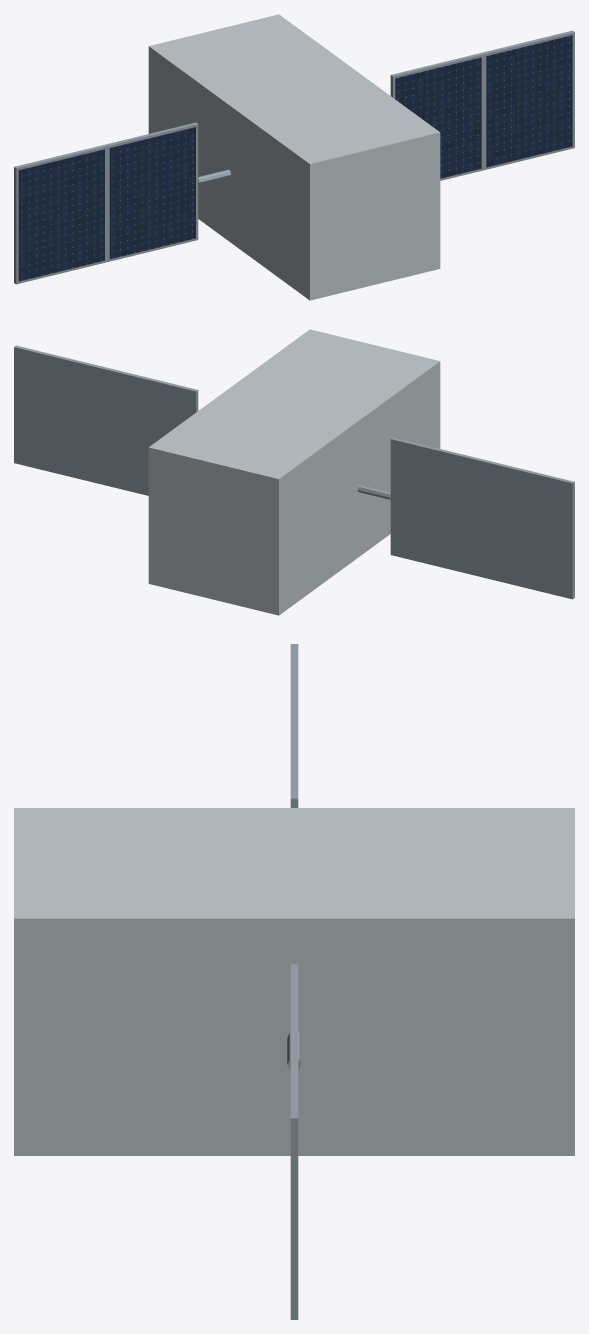
The model's file is ref-mita-26404.glb.
The picture shows the model from 3 angles, top to bottom: view 1: azimuth 30°, elevation 25°; view 2: azimuth 150°, elevation 25°; view 3: azimuth 270°, elevation 25°; orthographic projection. The views are drawn at different scales.
Parts seen in each view (by area): view 1: Spacecraft body, Photovoltaic laminates (×4), Array frame (×4); view 2: Spacecraft body, Array frame (×4); view 3: Spacecraft body, Array frame.
Part boxes in pixels (box(x1,y1,x2,y2)): Spacecraft body: box(148, 14, 440, 300); Photovoltaic laminates (×4): box(18, 35, 572, 281); Array frame (×4): box(14, 30, 574, 284); Spacecraft body: box(148, 329, 440, 615); Array frame (×4): box(14, 345, 574, 599); Spacecraft body: box(14, 808, 574, 1155); Array frame: box(290, 1041, 298, 1319).
Bounding box in the file's own units: 3 × 0.7 × 1.5.
Materials: 3 (1 with a texture image).
